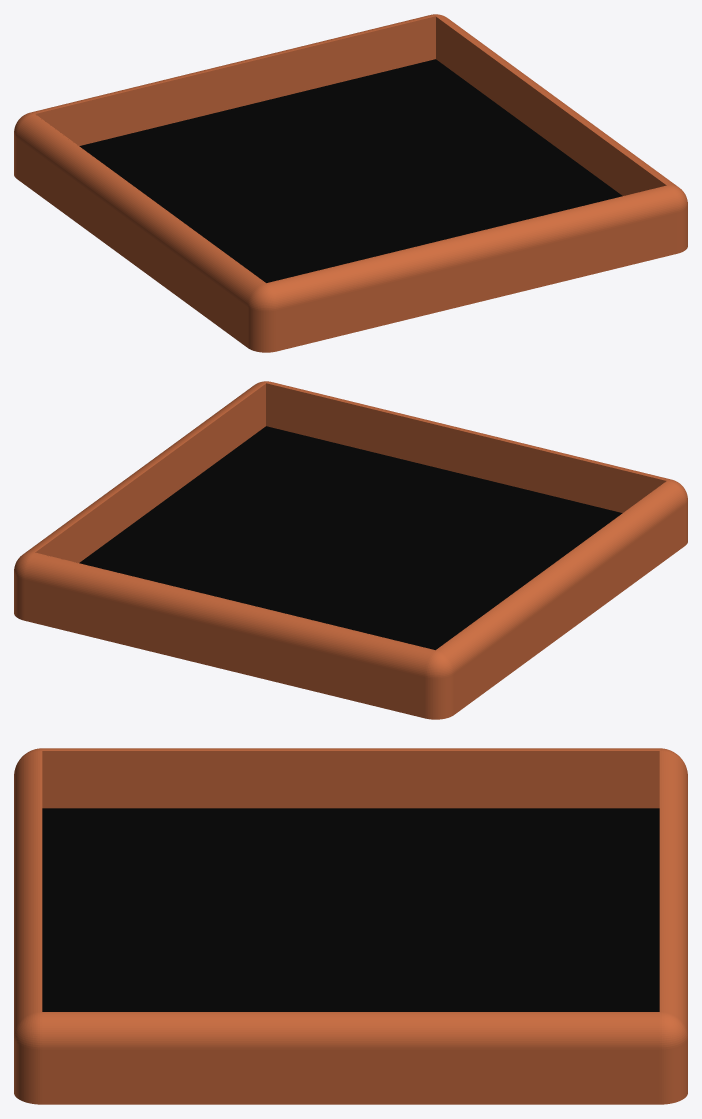
The picture shows the model from 3 angles, top to bottom: view 1: azimuth 30°, elevation 25°; view 2: azimuth 150°, elevation 25°; view 3: azimuth 270°, elevation 25°; orthographic projection. The views are drawn at different scales.
Visible parts, largest first — view 1: Cube.001, Cube.002; view 2: Cube.001, Cube.002; view 3: Cube.002, Cube.001.
Boxes of the visible parts, x1,y1,x2,y2 form: Cube.001: (14,14,687,352); Cube.002: (79,59,622,282); Cube.001: (14,381,687,719); Cube.002: (79,426,622,649); Cube.002: (42,808,659,1011); Cube.001: (14,748,687,1104).
Size of the model in its own units: 200 by 26.46 by 200.
